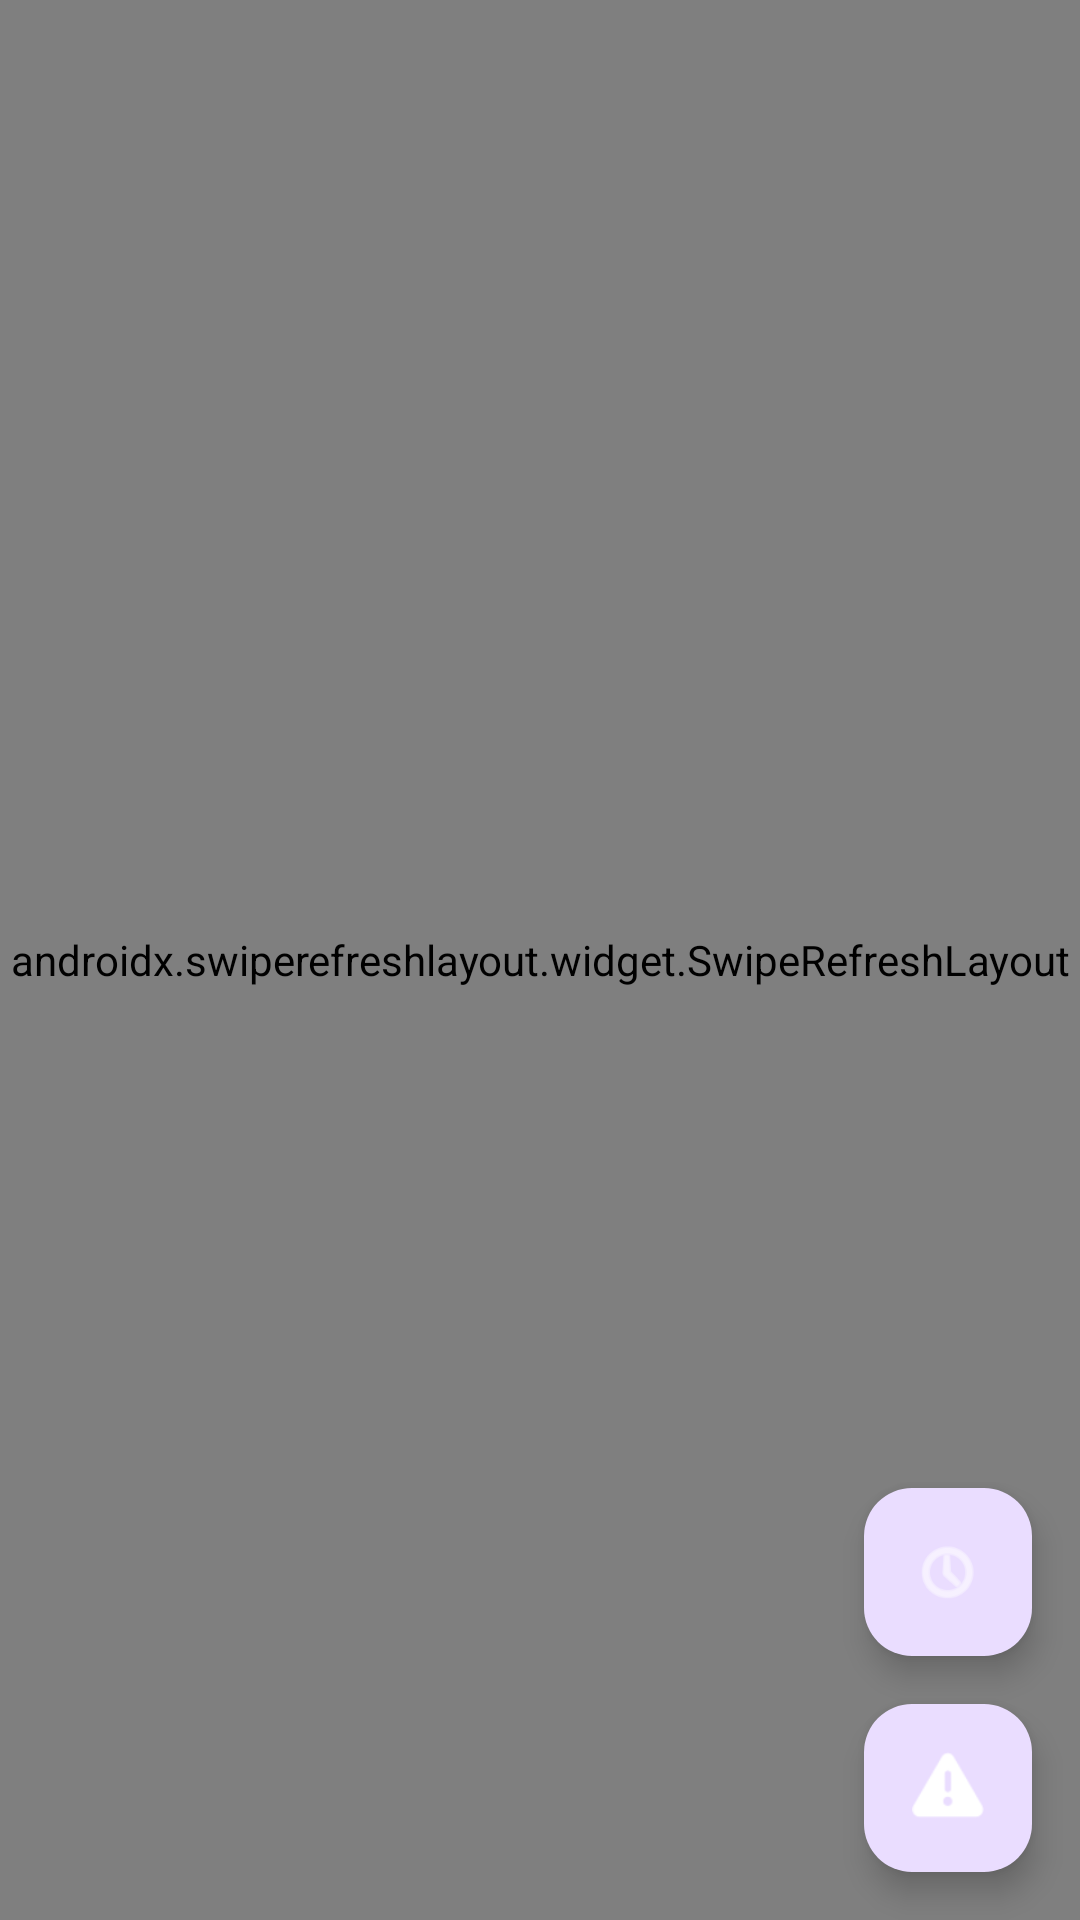

Screen size 1080*1920. Icon name, then its box in pixels as (x1, y1, x2, y2):
alert: (864, 1704, 1032, 1872)
recent history: (864, 1488, 1032, 1656)
